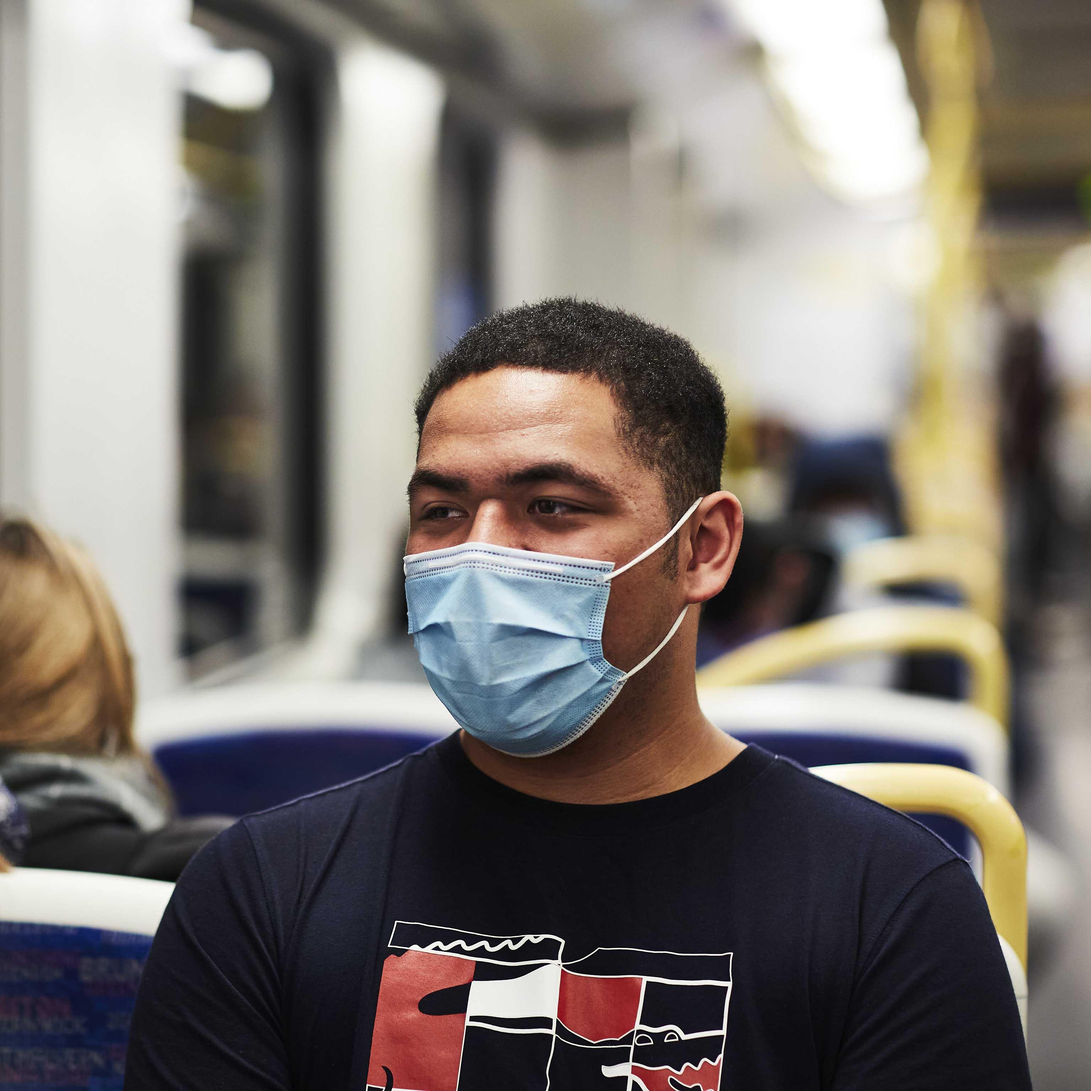sunglasses: (384, 519, 650, 767)
